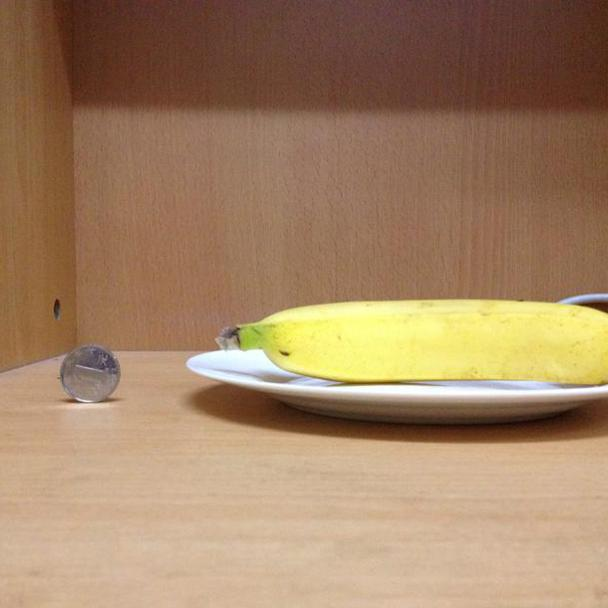banana: (222, 299, 608, 390)
